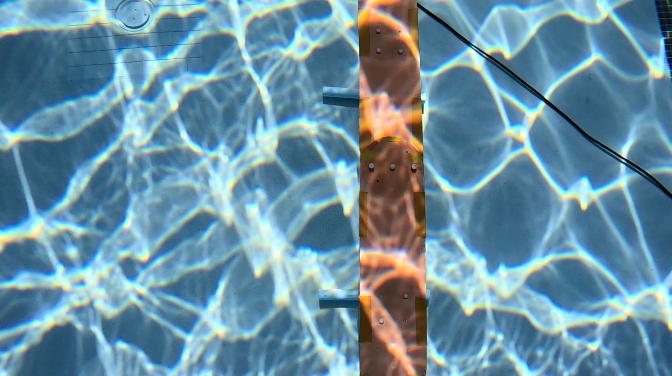pathmarker: (354, 0, 427, 375)
